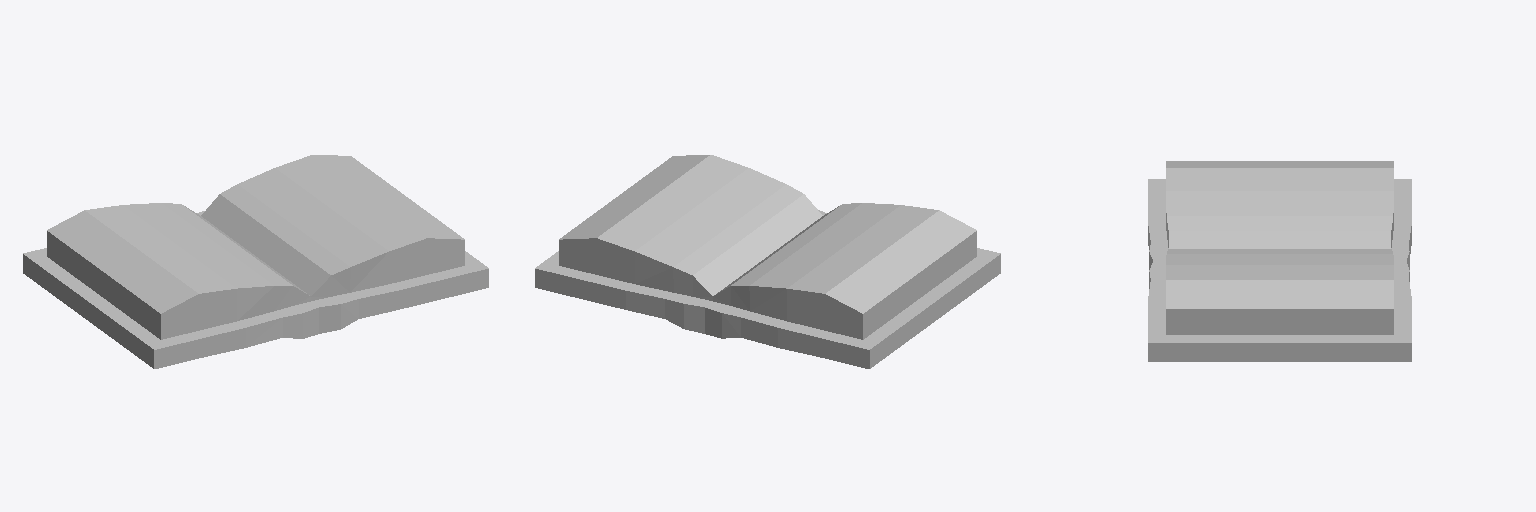
Rendered from LibroAbierto.obj.
The picture shows the model from 3 angles: view 1: azimuth 30°, elevation 25°; view 2: azimuth 150°, elevation 25°; view 3: azimuth 270°, elevation 25°; orthographic projection.
Parts seen in each view (by area): view 1: Libro_Abierto001; view 2: Libro_Abierto001; view 3: Libro_Abierto001.
Part boxes in pixels (left/top/right/bottom): Libro_Abierto001: left=23, top=155, right=488, bottom=368; Libro_Abierto001: left=535, top=155, right=1000, bottom=368; Libro_Abierto001: left=1148, top=161, right=1411, bottom=361.
Size of the model in its own units: 496 by 90 by 338.